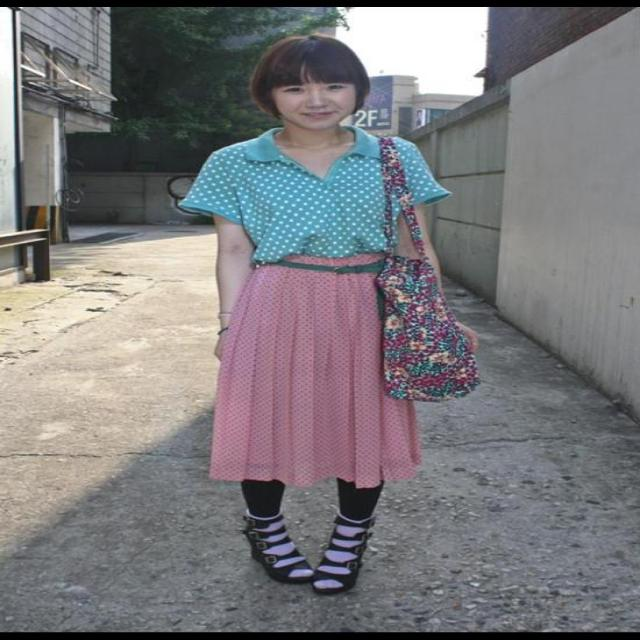Tshirt: (182, 126, 449, 262)
skirt: (208, 252, 420, 486)
